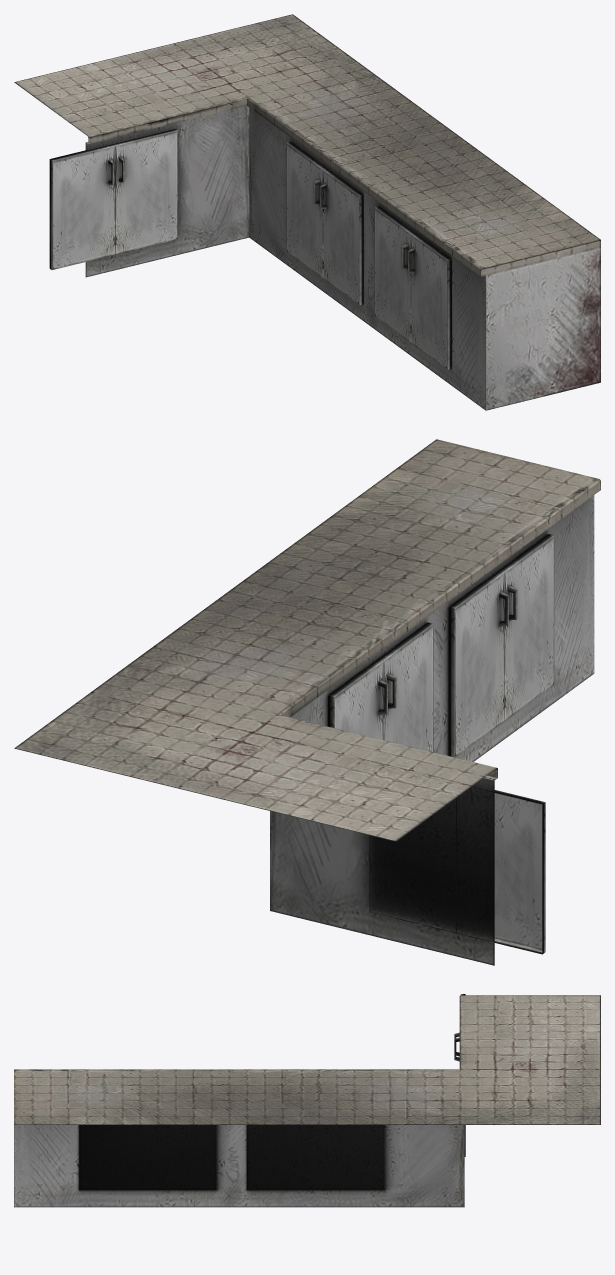
File: plantravail.fbx
The picture shows the model from 3 angles, top to bottom: view 1: azimuth 30°, elevation 25°; view 2: azimuth 150°, elevation 25°; view 3: azimuth 270°, elevation 25°; orthographic projection. The views are drawn at different scales.
Visible parts, largest first — view 1: polySurface773; view 2: polySurface773; view 3: polySurface773.
Part boxes in pixels (x1=…): polySurface773: x1=14, y1=14, x2=600, y2=410; polySurface773: x1=14, y1=439, x2=600, y2=965; polySurface773: x1=14, y1=994, x2=600, y2=1207.
Size of the model in its own units: 207 by 90 by 352.
